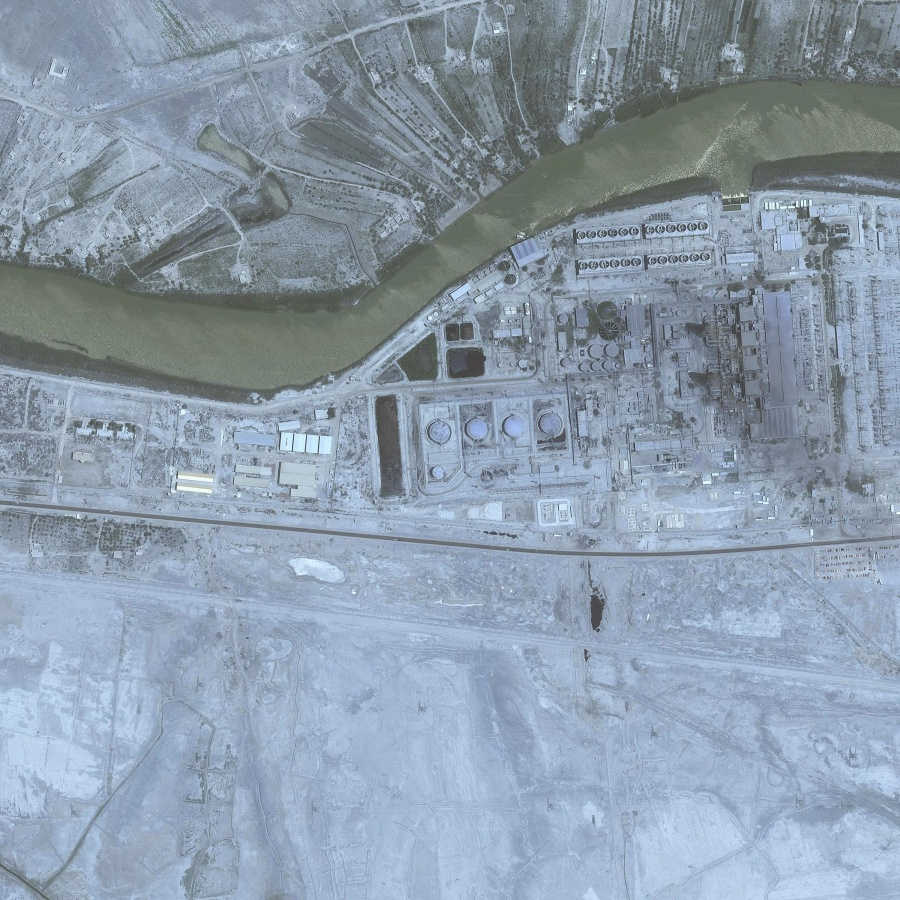PowerPlant: (352, 215, 852, 514)
